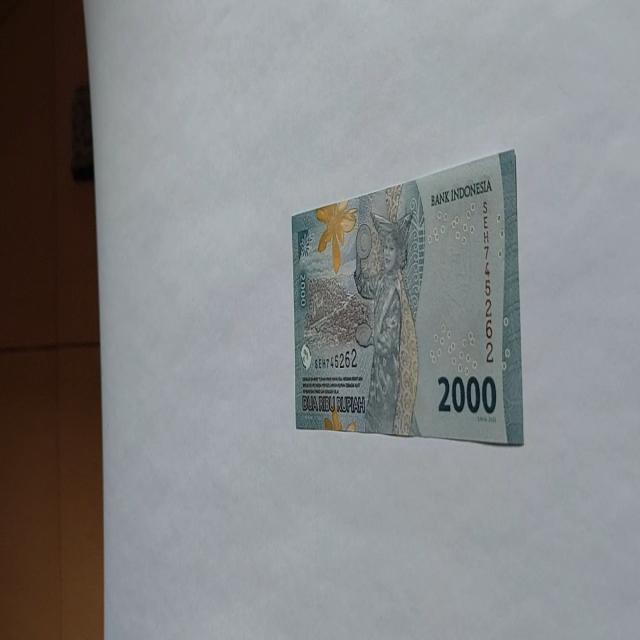dua ribu rupiah: (291, 148, 524, 446), (352, 208, 420, 434)
